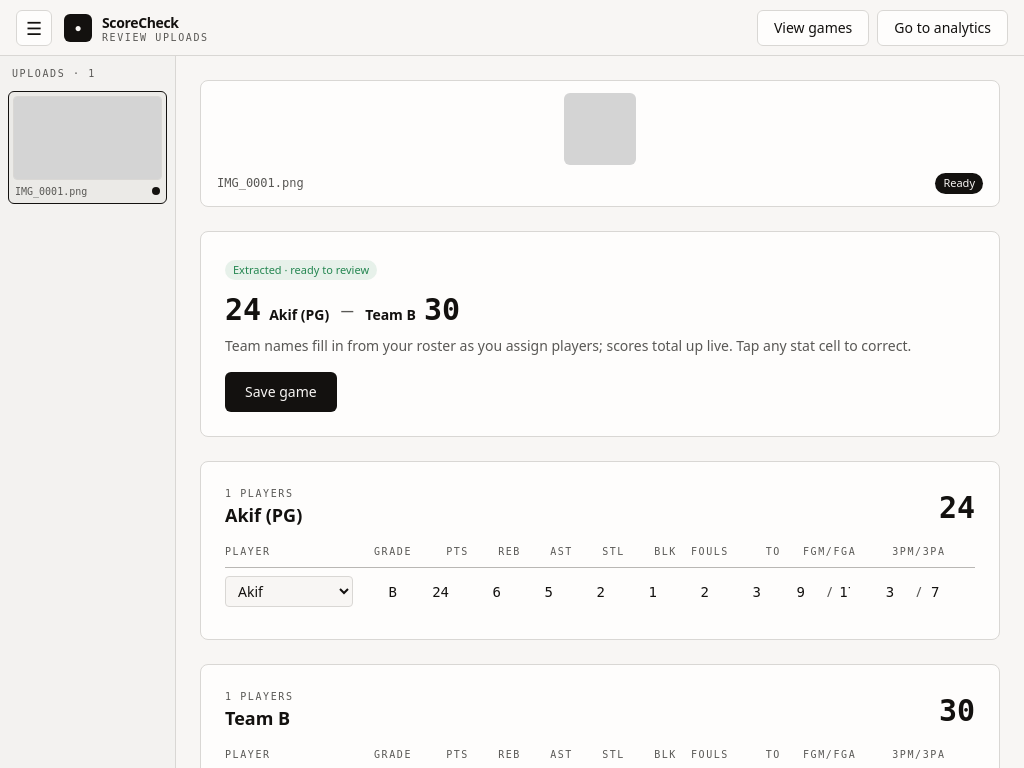
the top bar › offers the other areas of the app
Click the button named "Open navigation".
click(34, 28)  # box [16,10,52,46]
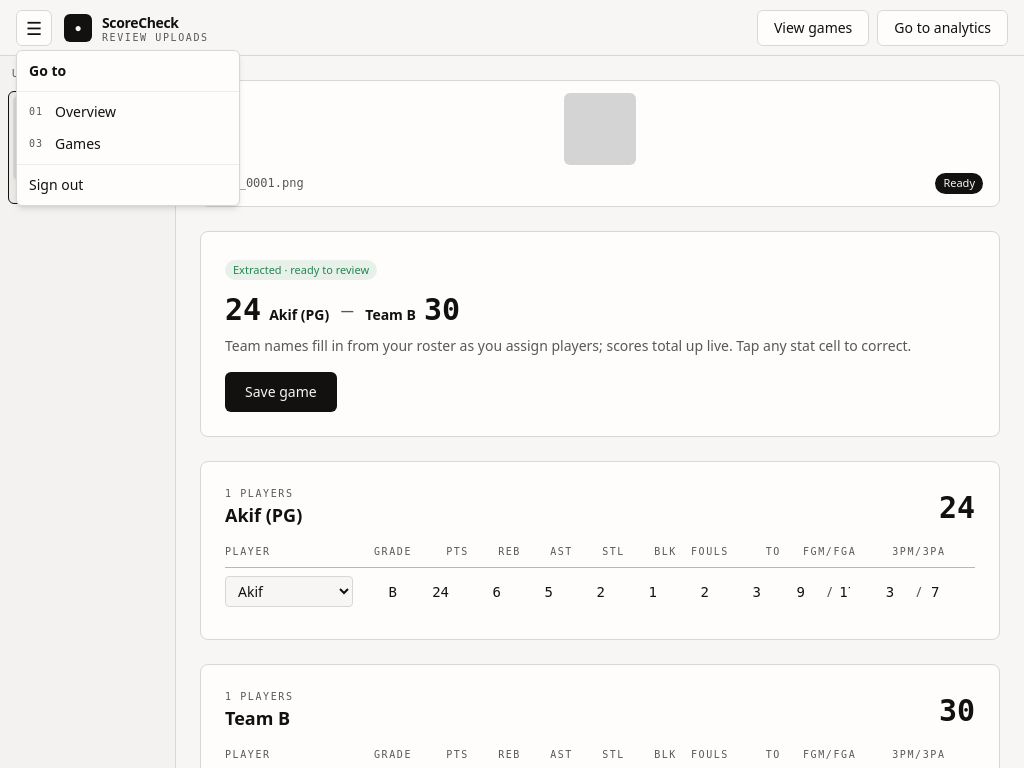
Expected: the text "Overview" is shown, [55,102,116,122]
Expected: the text "Games" is shown, [55,134,101,154]
